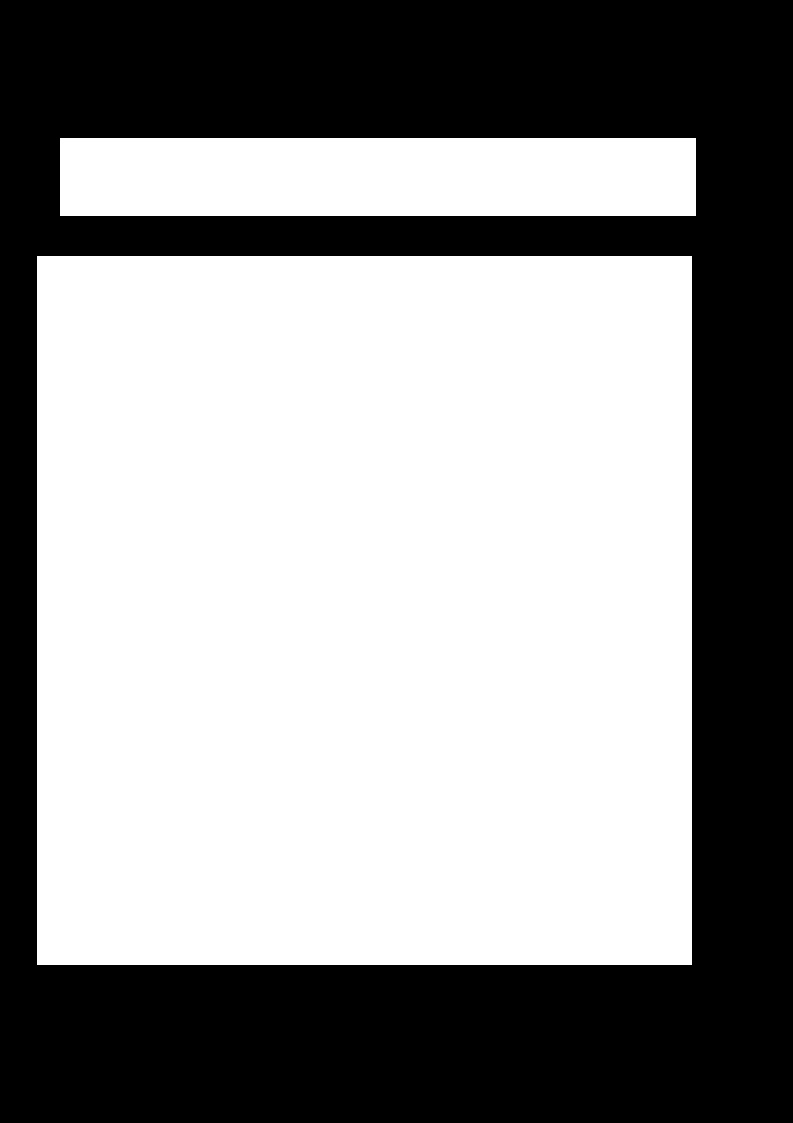table: (37, 256, 691, 964), (60, 138, 695, 215)
